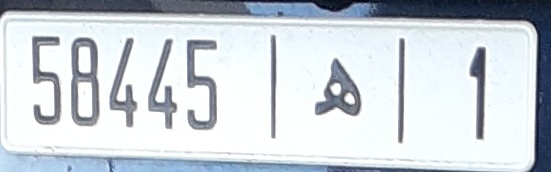1: (465, 43, 489, 143)
4: (145, 38, 179, 131), (107, 36, 140, 129)
5: (183, 38, 224, 132), (26, 33, 64, 125)
8: (70, 34, 101, 129)
h: (311, 55, 368, 124)
